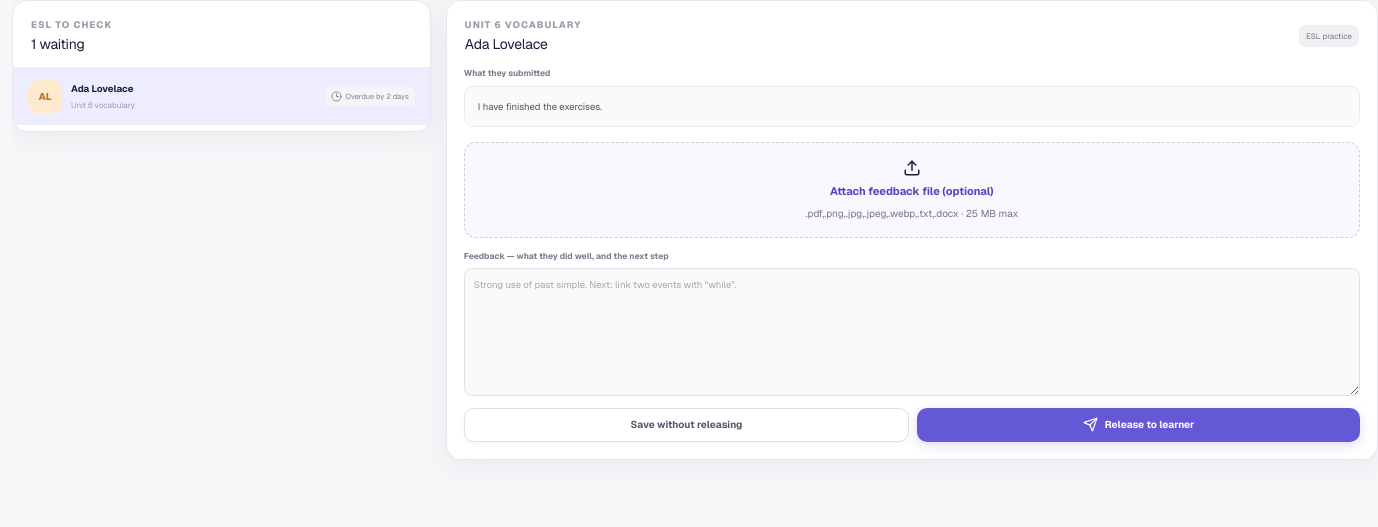
Test: homework checking › saves without releasing, and says the learner cannot see it
Replace the text in the text box with placeholder "Strong use of past simple" with "Good work on the past simple." at (912, 332), box [464,268,1360,396]
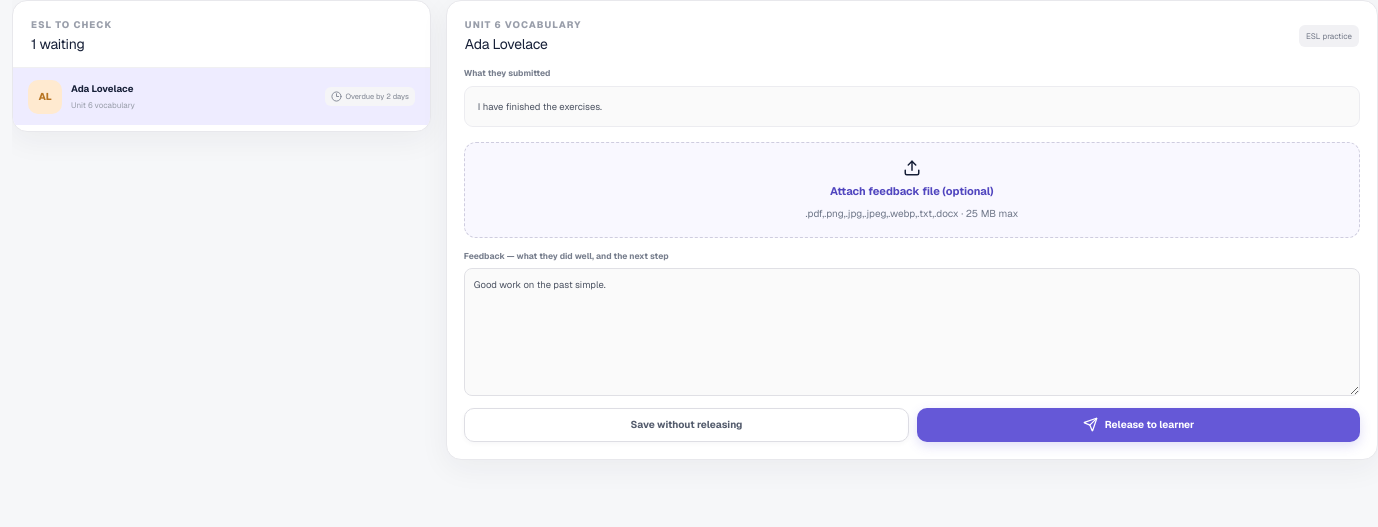
Click the button "Save without releasing" at (686, 425), box [464,408,909,442]
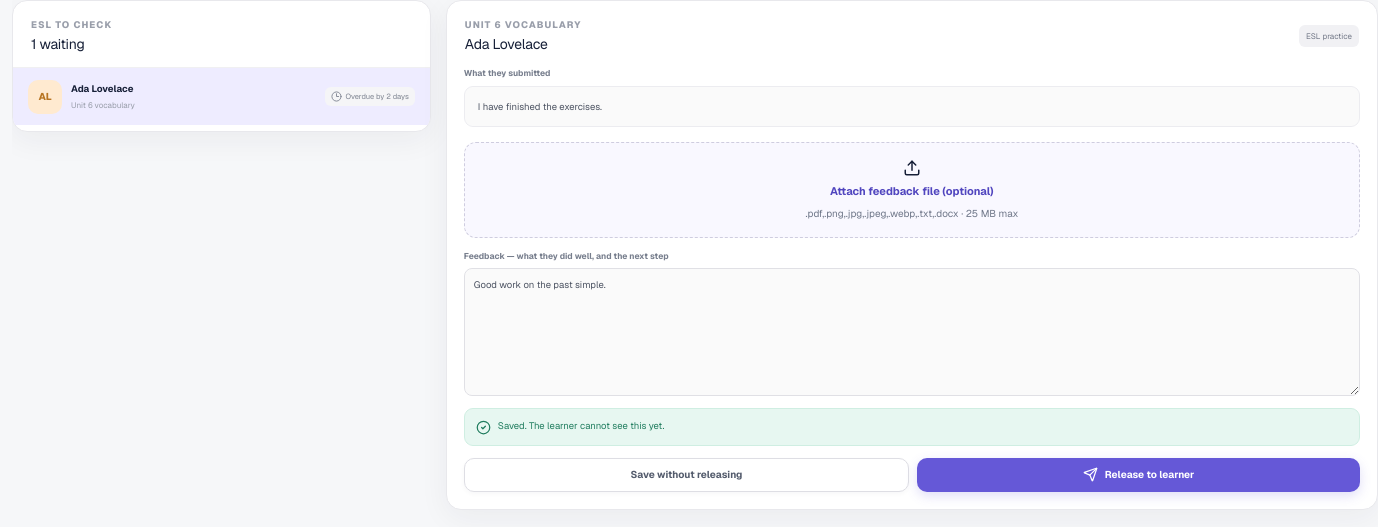
expect the message shows "cannot see this yet": met, box [498,419,664,432]
